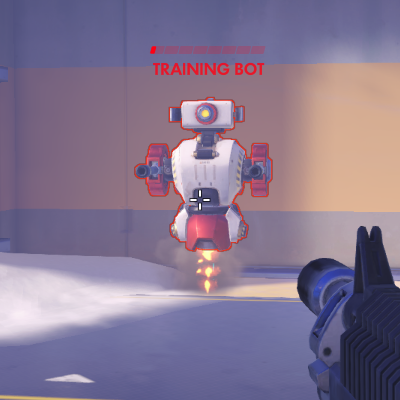hpbar: (150, 45, 266, 55)
